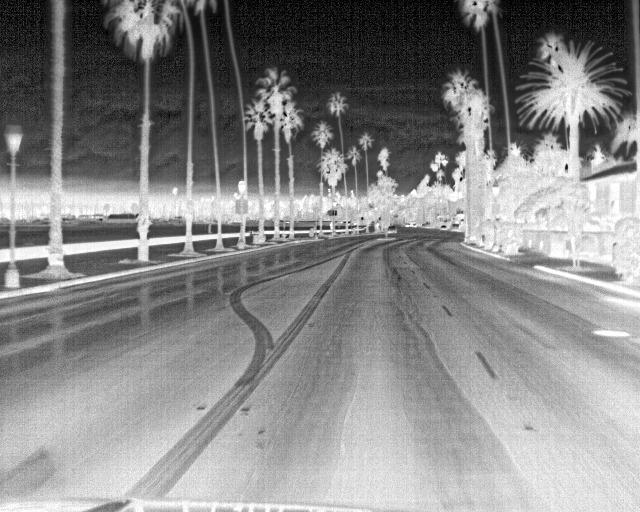car: (385, 223, 398, 235), (450, 221, 460, 233)
